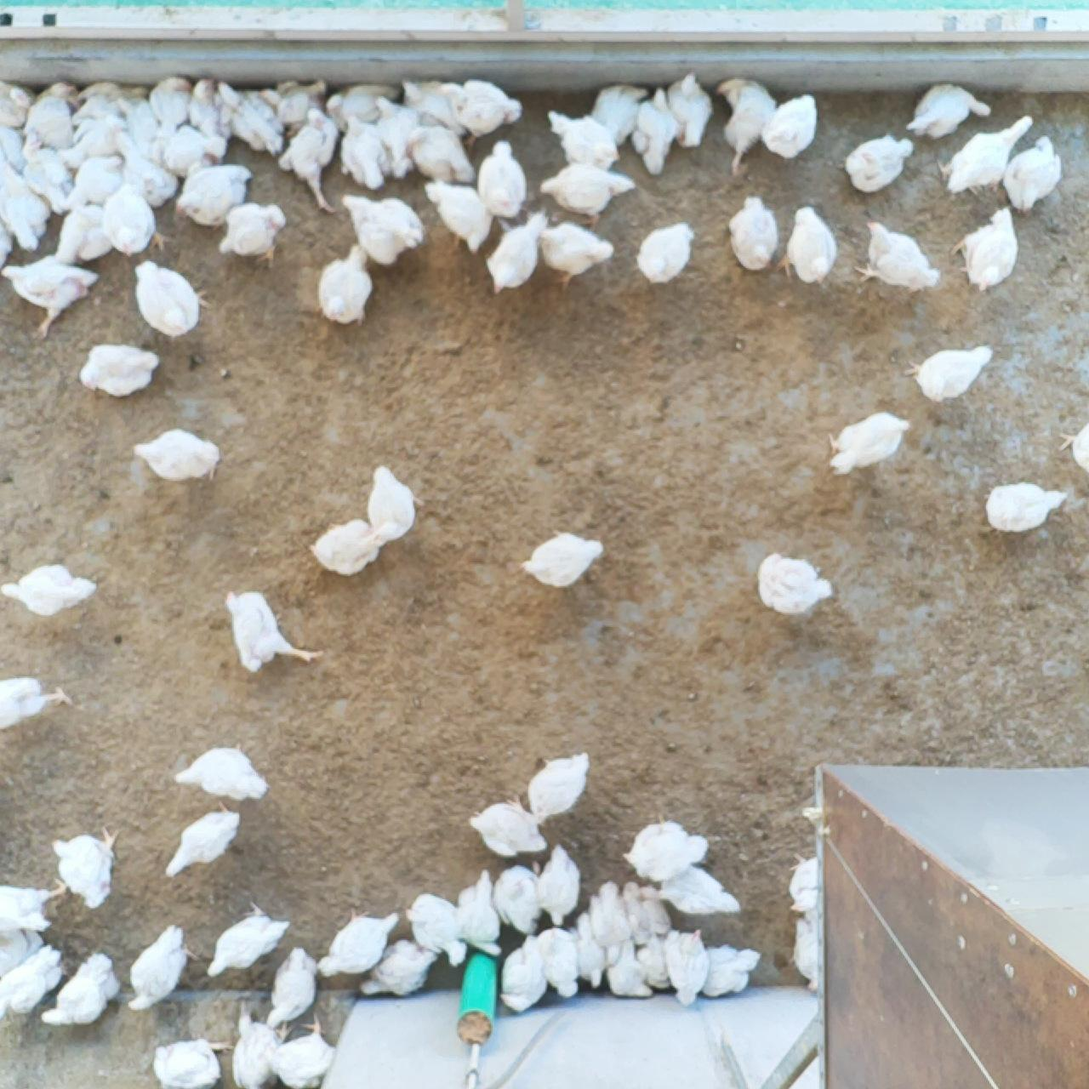chicken: (939, 114, 1029, 197), (225, 595, 318, 670), (536, 164, 639, 226), (1, 263, 94, 329), (277, 108, 336, 211), (344, 191, 419, 265), (205, 908, 289, 973), (724, 76, 780, 173), (863, 220, 938, 292), (315, 909, 394, 977), (43, 955, 117, 1023), (74, 80, 140, 156), (957, 207, 1018, 287), (629, 821, 708, 882), (535, 225, 608, 291), (829, 413, 910, 472), (549, 111, 619, 179), (130, 926, 186, 1011), (107, 187, 174, 258), (164, 812, 237, 877), (134, 261, 197, 336), (441, 83, 521, 142), (756, 554, 832, 615), (171, 751, 267, 799), (488, 219, 549, 294), (914, 83, 994, 140), (427, 180, 487, 255), (214, 86, 277, 157), (134, 430, 220, 482), (22, 133, 77, 214), (1, 160, 49, 252), (3, 567, 95, 615), (1, 944, 63, 1014), (908, 349, 991, 401), (588, 84, 645, 159), (763, 91, 824, 160), (395, 80, 465, 140), (57, 838, 117, 908), (634, 225, 695, 291), (783, 207, 838, 280), (845, 133, 914, 191), (528, 533, 604, 585), (81, 345, 158, 396), (366, 470, 419, 544), (362, 942, 436, 995), (372, 95, 421, 175), (469, 801, 544, 853), (531, 759, 589, 826), (403, 898, 464, 961), (985, 486, 1065, 534), (412, 122, 469, 188), (1012, 137, 1059, 217), (476, 140, 523, 218), (656, 871, 743, 913), (311, 519, 376, 575), (636, 90, 677, 178), (1, 676, 73, 726), (223, 207, 285, 265), (665, 72, 711, 150), (726, 194, 772, 272), (660, 932, 708, 1006), (177, 80, 227, 151), (234, 1017, 284, 1088), (116, 136, 168, 204), (271, 941, 314, 1023), (273, 1033, 336, 1088), (534, 850, 579, 926), (157, 1038, 225, 1088), (66, 154, 127, 209), (501, 934, 544, 1012), (158, 131, 220, 185), (179, 174, 242, 227), (459, 877, 501, 956), (322, 249, 370, 317), (584, 893, 629, 964), (622, 885, 668, 954), (256, 75, 318, 126), (342, 119, 385, 190), (324, 83, 385, 130), (570, 912, 608, 987), (57, 209, 105, 268), (540, 927, 580, 997), (497, 865, 540, 929), (1, 883, 66, 925), (780, 851, 824, 910), (700, 951, 760, 994), (29, 86, 88, 128), (147, 78, 190, 132), (1060, 422, 1089, 476), (1, 88, 27, 128)
